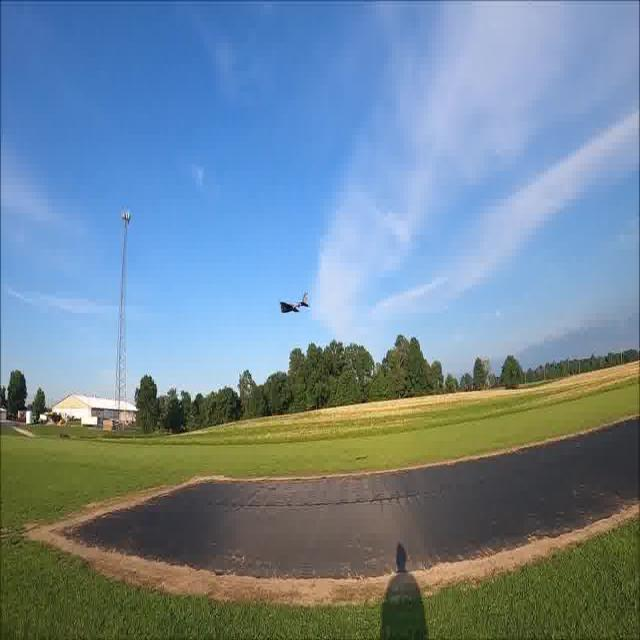iha: (278, 290, 316, 330)
